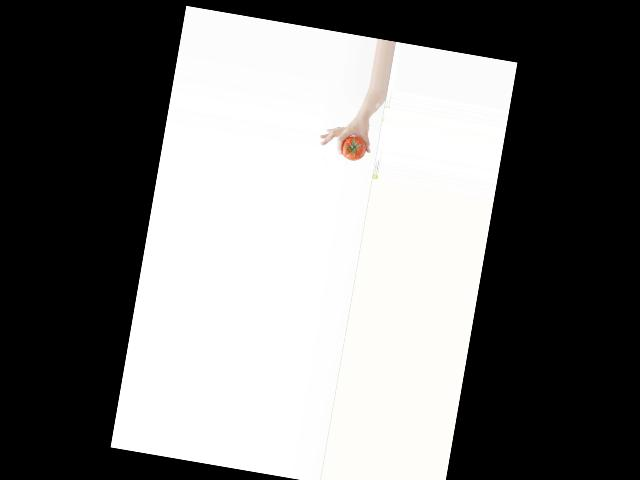tomato: (339, 134, 368, 162)
